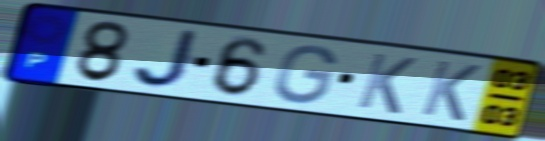6: (210, 35, 272, 100)
8: (73, 19, 132, 85)
G: (271, 43, 340, 106)
J: (131, 27, 205, 90)
K: (353, 50, 421, 117), (417, 57, 484, 124)
